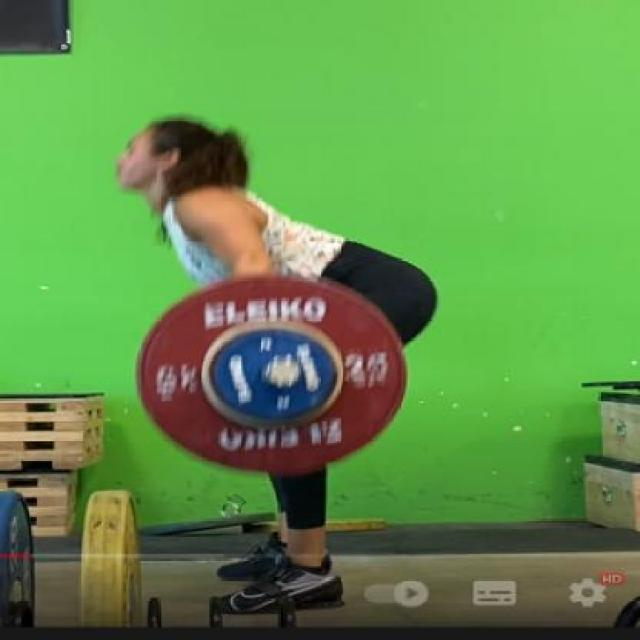Barbell: (262, 352, 304, 390)
